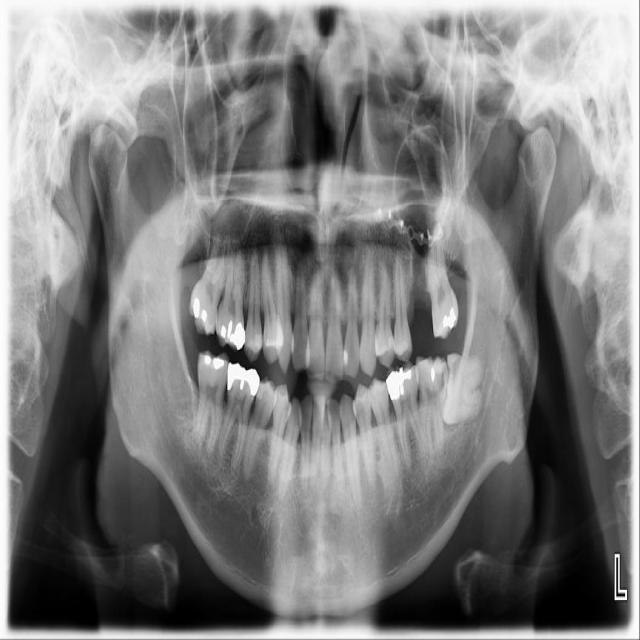52: (183, 279, 223, 339), (382, 359, 424, 406), (194, 347, 231, 394), (224, 362, 262, 407), (430, 288, 460, 340), (215, 303, 245, 352), (414, 354, 448, 396), (289, 327, 312, 374), (242, 321, 265, 363), (343, 335, 360, 376), (439, 365, 448, 389)
73: (616, 606, 626, 614)
BioHorizons Implant: (422, 223, 461, 341)
Biomet 3i Implant: (438, 351, 484, 425)
Blue Sky Bio Implant: (415, 355, 448, 459)
Caries: (183, 214, 238, 338)
Implant: (190, 348, 230, 458)
